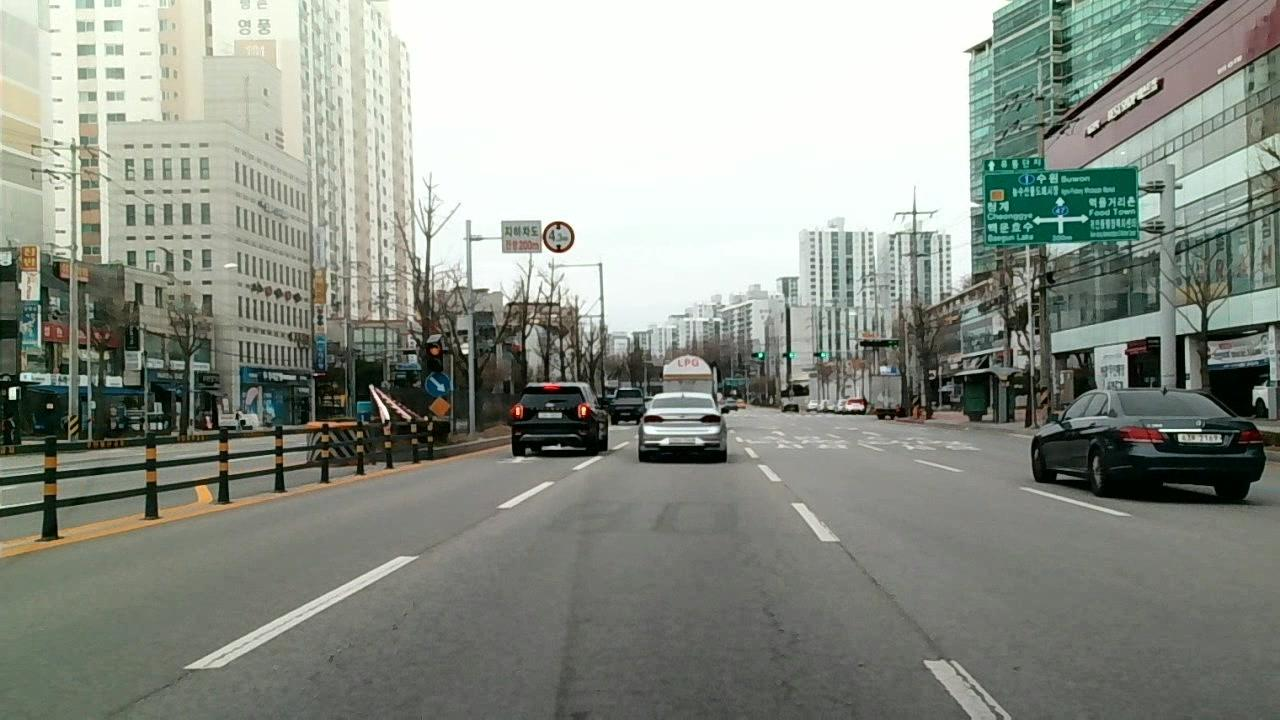vcrack: (745, 565, 796, 720), (922, 632, 1002, 720), (74, 669, 199, 720), (833, 547, 918, 617), (411, 506, 502, 564)
